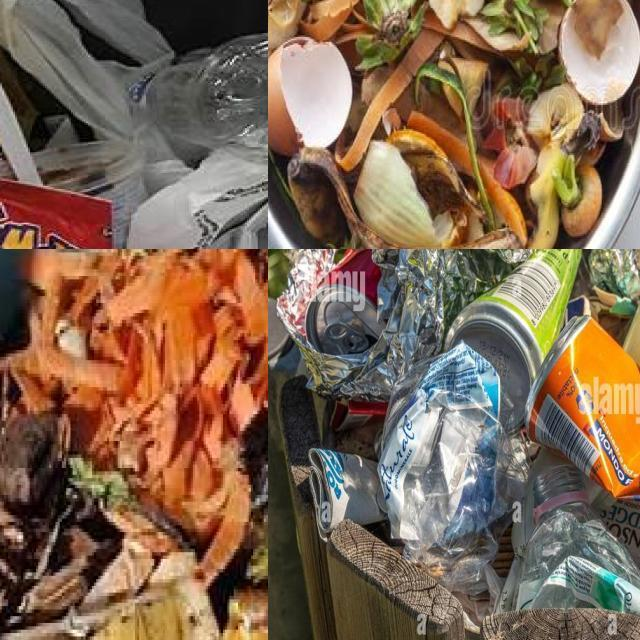Disposable: (34, 140, 148, 249)
Garbage: (277, 249, 640, 625), (0, 249, 268, 640), (268, 0, 640, 249)
Plastic_Bag: (377, 342, 529, 598)
Plastic_Straw: (0, 86, 42, 185)
Plastic_bottle: (510, 449, 640, 614), (131, 34, 268, 163)
Plastic_wraper: (277, 249, 535, 400), (0, 179, 114, 249), (589, 249, 640, 302)
can: (445, 249, 582, 432), (526, 317, 640, 500), (306, 249, 381, 356)
